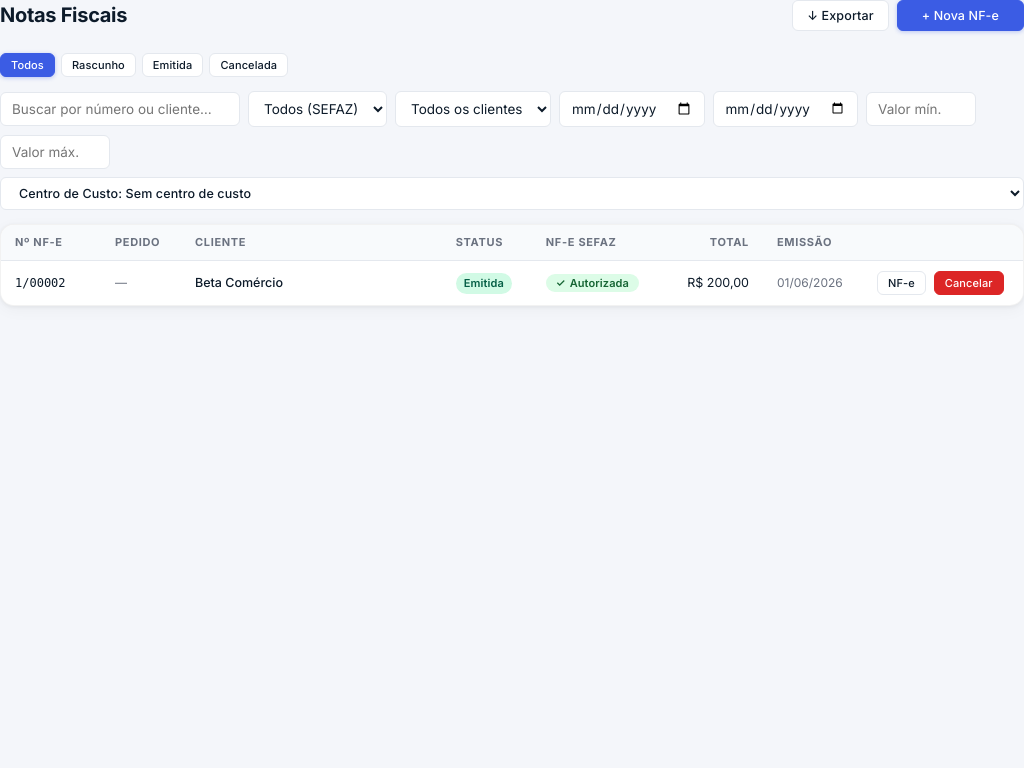
Scenario: InvoicesPage — cancelamento junto à SEFAZ e Carta de Correção (regra 0089) › justificativa curta demais não envia — mostra erro client-side
This screenshot has width=1024, height=768.
Expected: the text "Beta Comércio" is shown, [181, 260, 442, 305]
Click the button "Cancelar": (969, 283) [934, 271, 1004, 295]
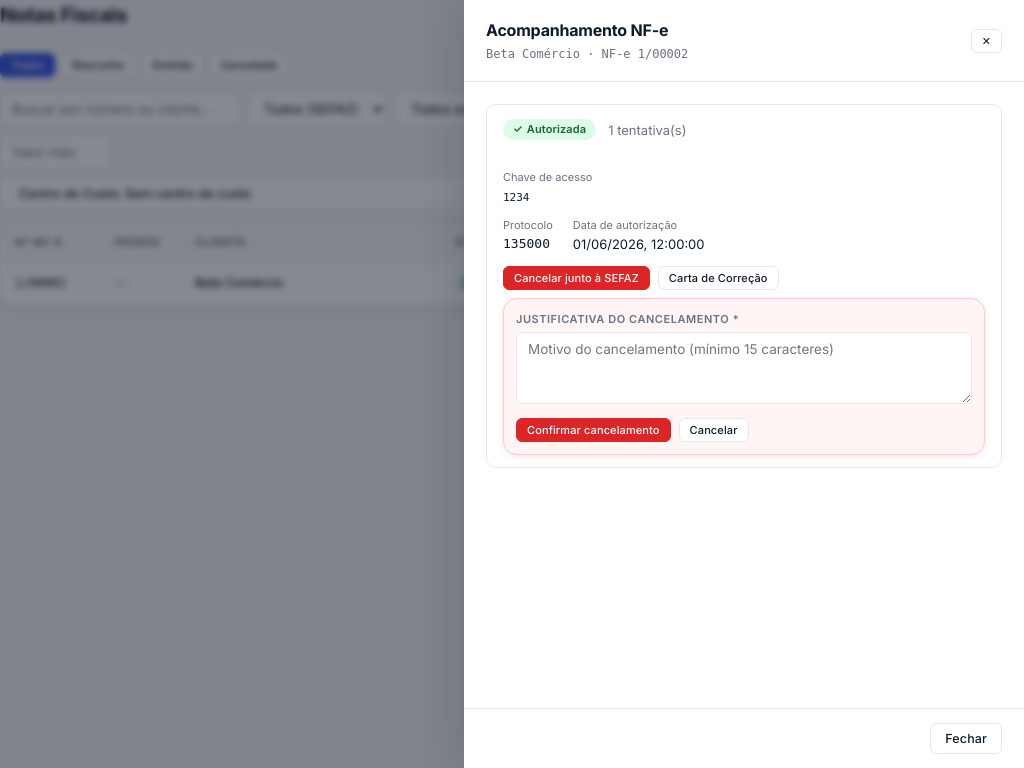
Result: the text box with placeholder "Motivo do cancelamento (mínimo 15 caracteres)" is shown
In the text box with placeholder "Motivo do cancelamento (mínimo 15 caracteres)": (744, 368) [516, 332, 972, 404], type "curto"
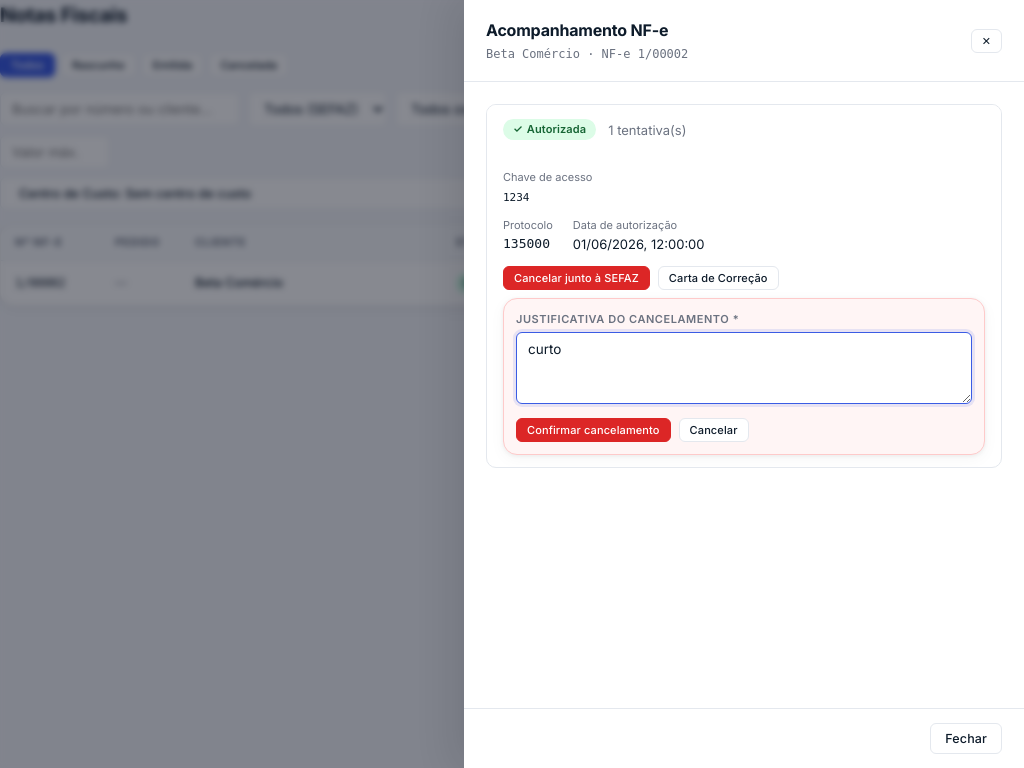
Click the button "Confirmar cancelamento": (593, 430) [516, 418, 671, 442]
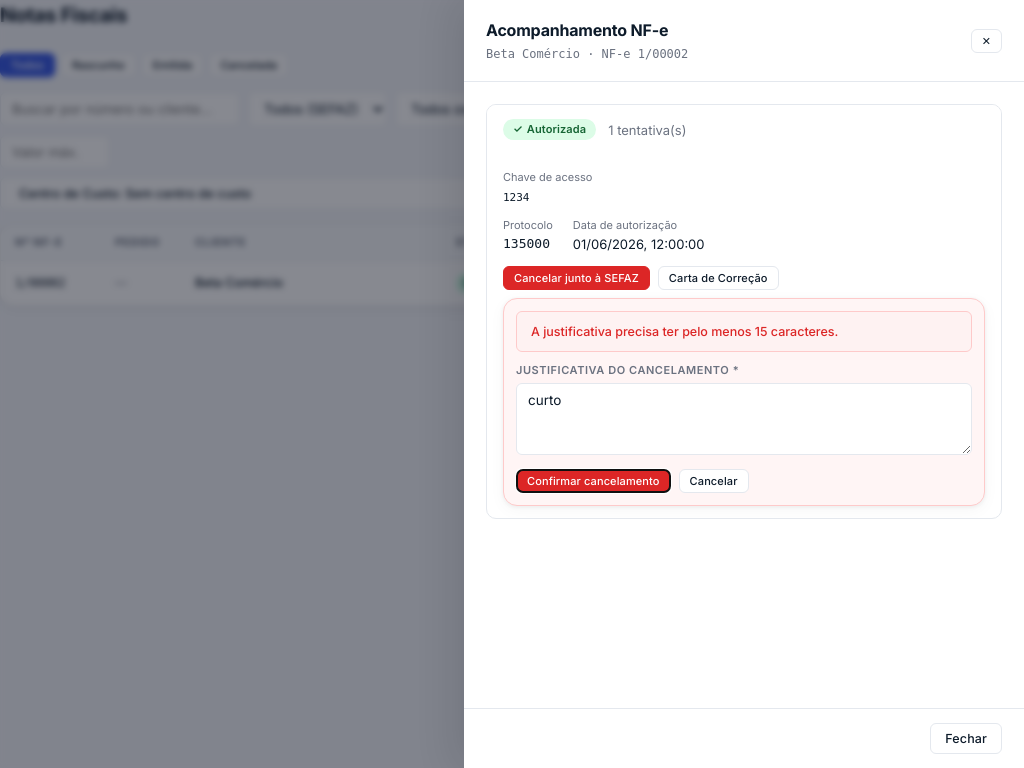
Result: the text "A justificativa precisa ter pelo menos 15 caracteres." is shown at [516, 311, 972, 352]
